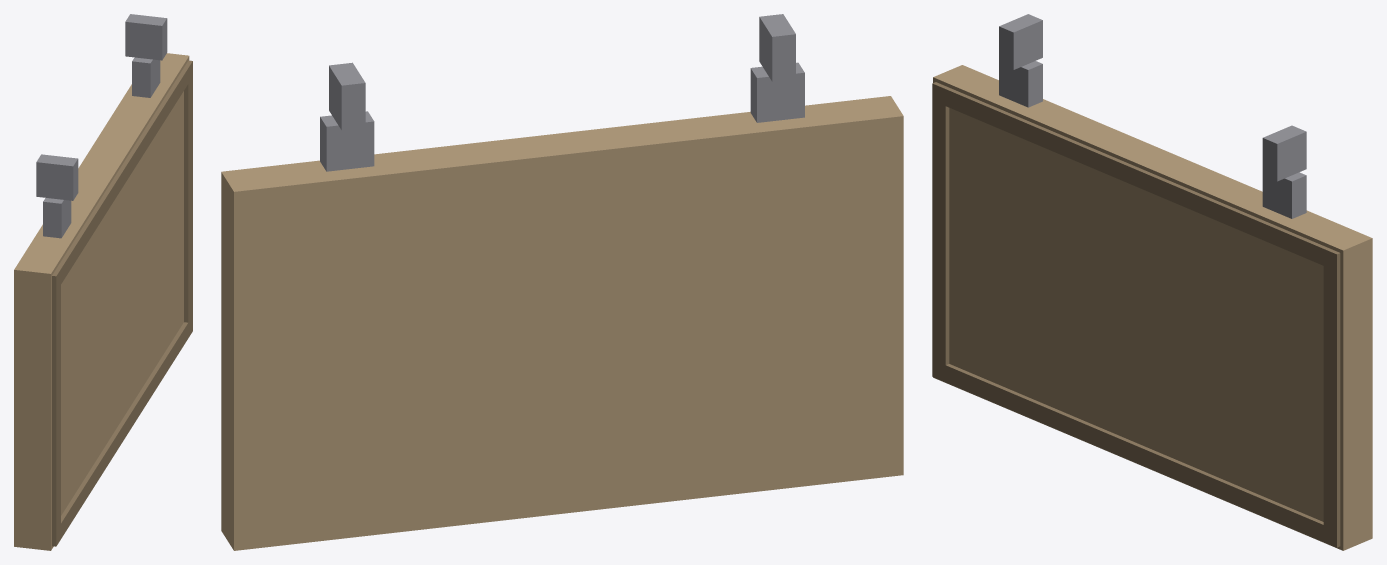
The model's file is sign_spruce_hang_diag.gltf.
3 renders of one model, left to right at view 1: azimuth 30°, elevation 25°; view 2: azimuth 150°, elevation 25°; view 3: azimuth 270°, elevation 25°, orthographic. The views are drawn at different scales.
Visible parts, largest first — view 1: sign_spruce_hang_diag; view 2: sign_spruce_hang_diag; view 3: sign_spruce_hang_diag.
Boxes of the visible parts, box(x1,y1,x2,y2) form: sign_spruce_hang_diag: box(14, 14, 192, 550); sign_spruce_hang_diag: box(221, 14, 903, 550); sign_spruce_hang_diag: box(932, 14, 1372, 550).
Size of the model in its own units: 0.664 by 0.631 by 0.664.
